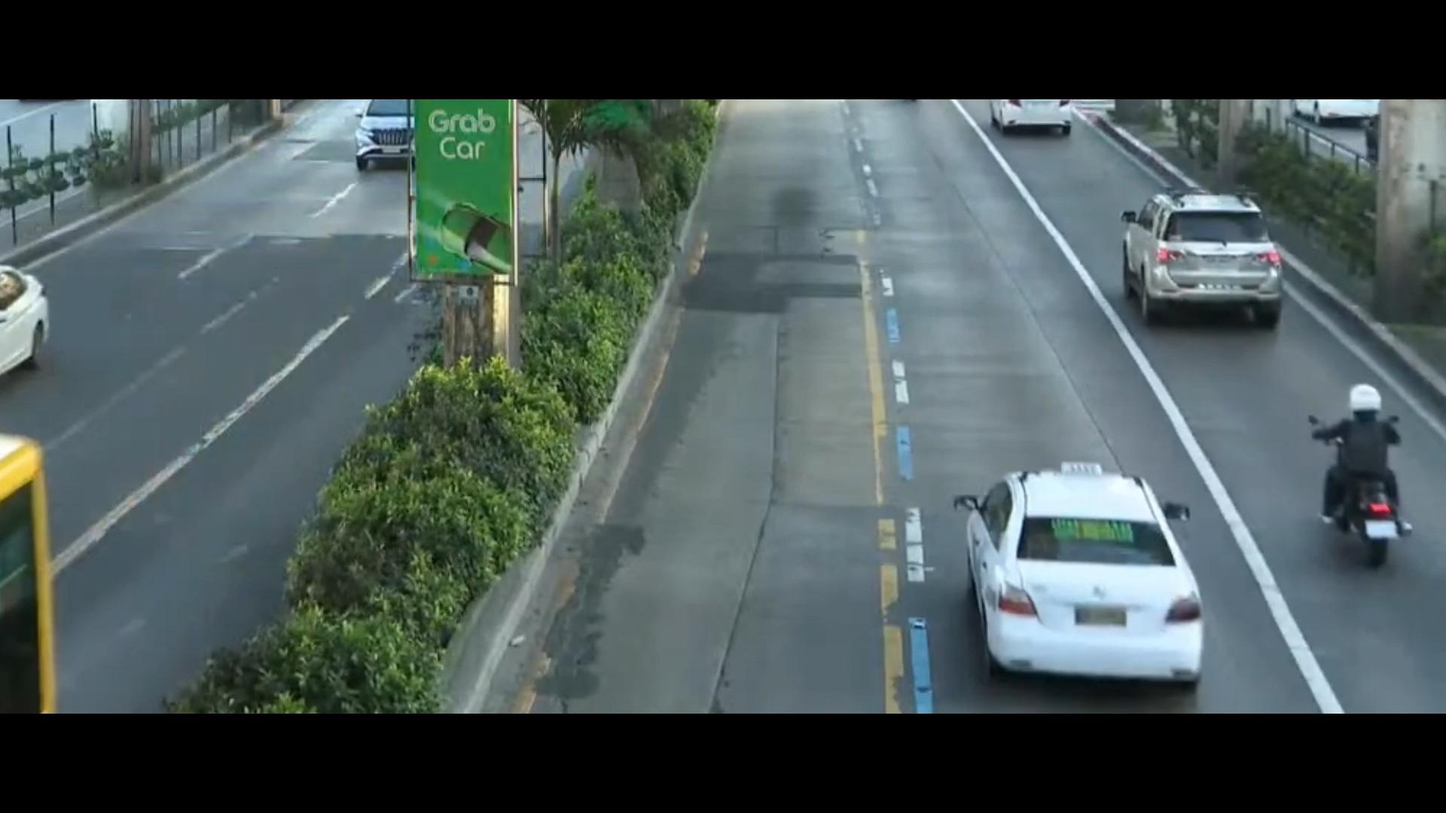Motorcycle: (1295, 367, 1446, 607)
SUV: (1100, 156, 1313, 356), (352, 91, 419, 186)
Sedan: (955, 435, 1221, 695), (0, 239, 83, 386)
